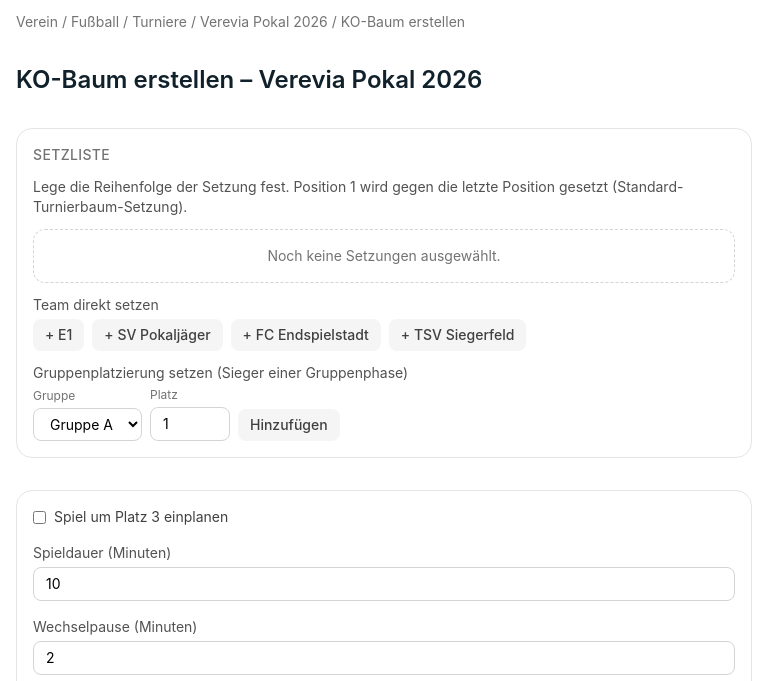
Test: TournamentKnockoutGenerator › removes an added team from the seed list and makes it selectable again
The width and height of the screenshot is (769, 681).
Click the button "+ E1" at (59, 335), box [33,319,84,351]
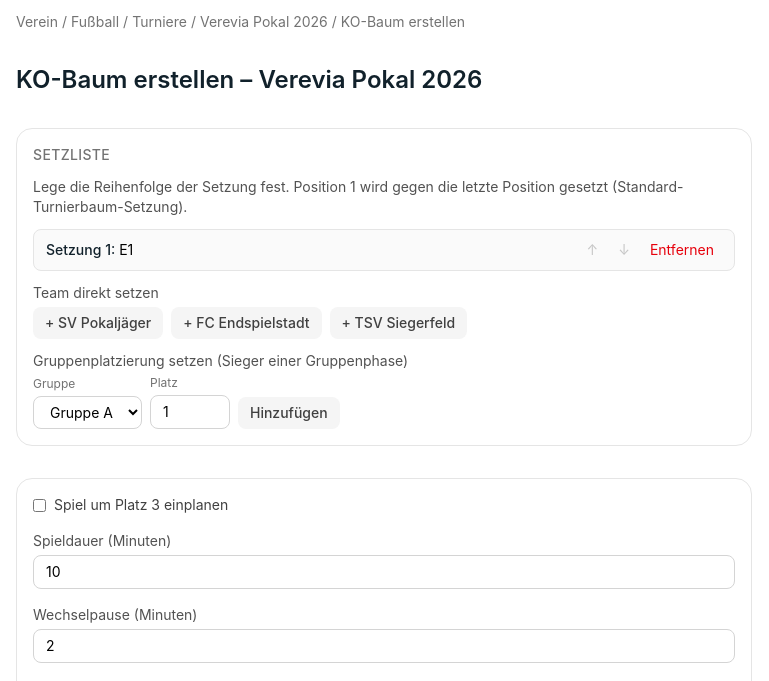
expect the text "Setzung 1:" is shown: met, box [46,241,115,258]
expect the button "+ E1" is gone: met
Click the button with aria-label "Setzung 1 entfernen" at (682, 250), box [642,236,722,264]
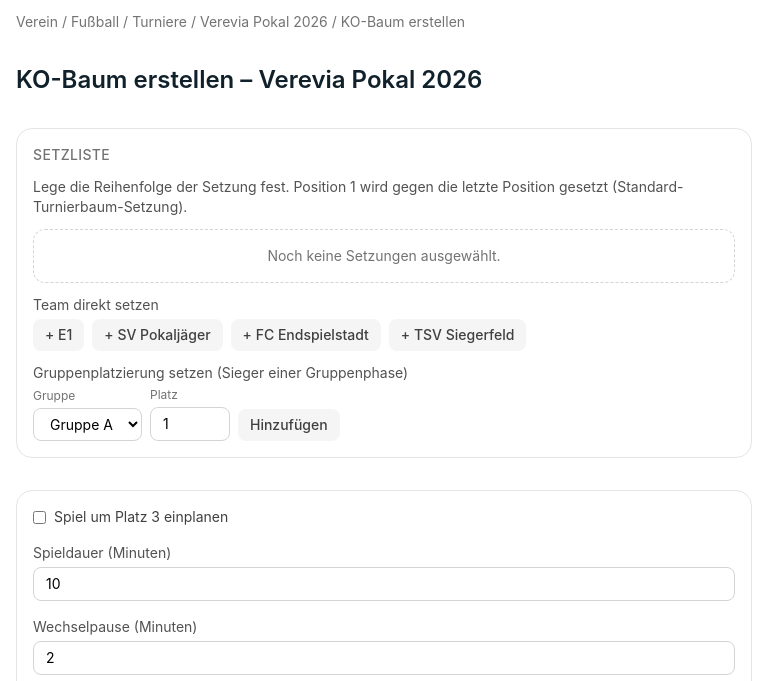
expect the text "Setzung 1:" is gone: met
expect the button "+ E1" is shown: met, box [33,319,84,351]
